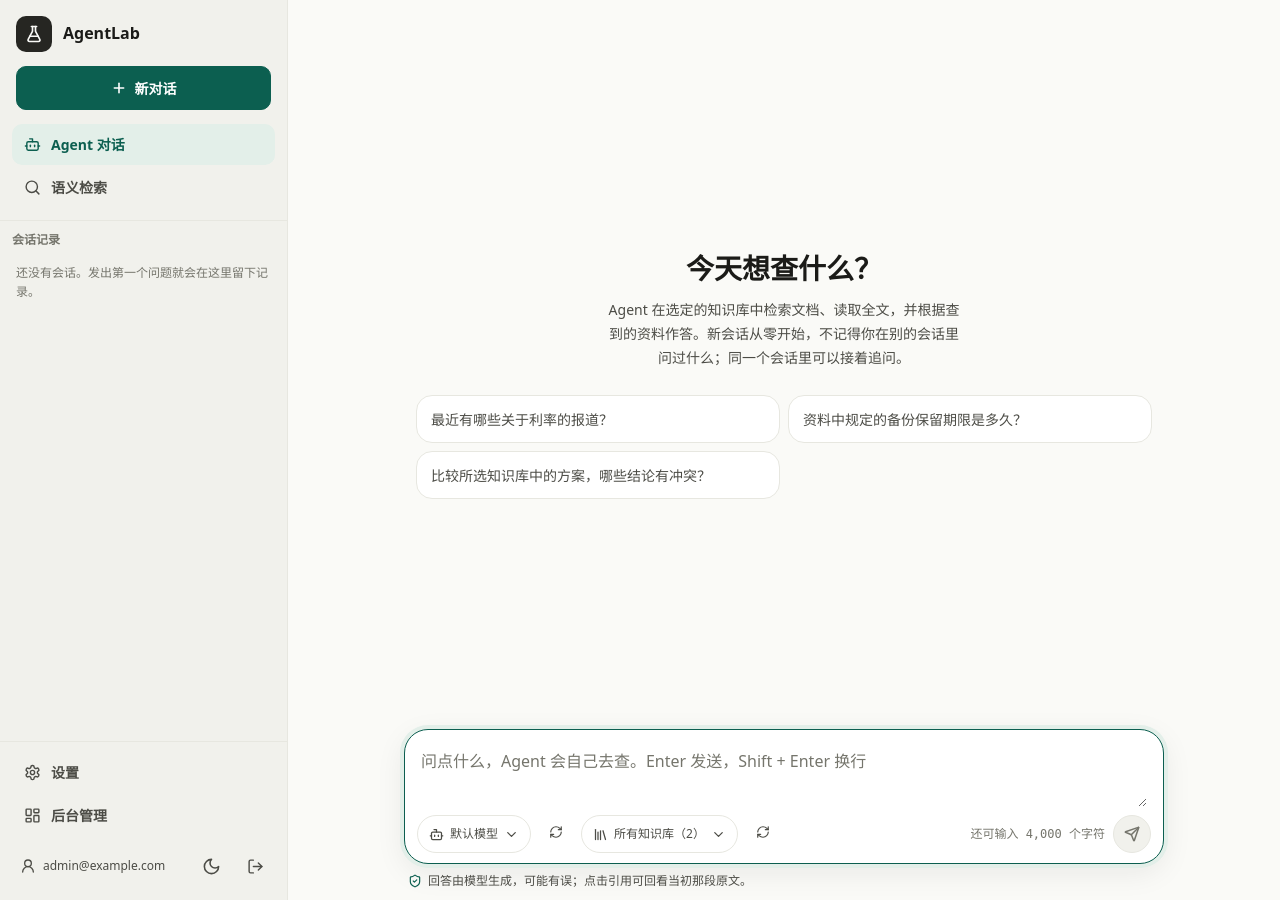
AgentChatPage › 错误事件给出重发按钮，点了再问一次
The width and height of the screenshot is (1280, 900).
Type "会超时的问题" into the text box with class "message-input" at (784, 774), box [421,742,1147,807]
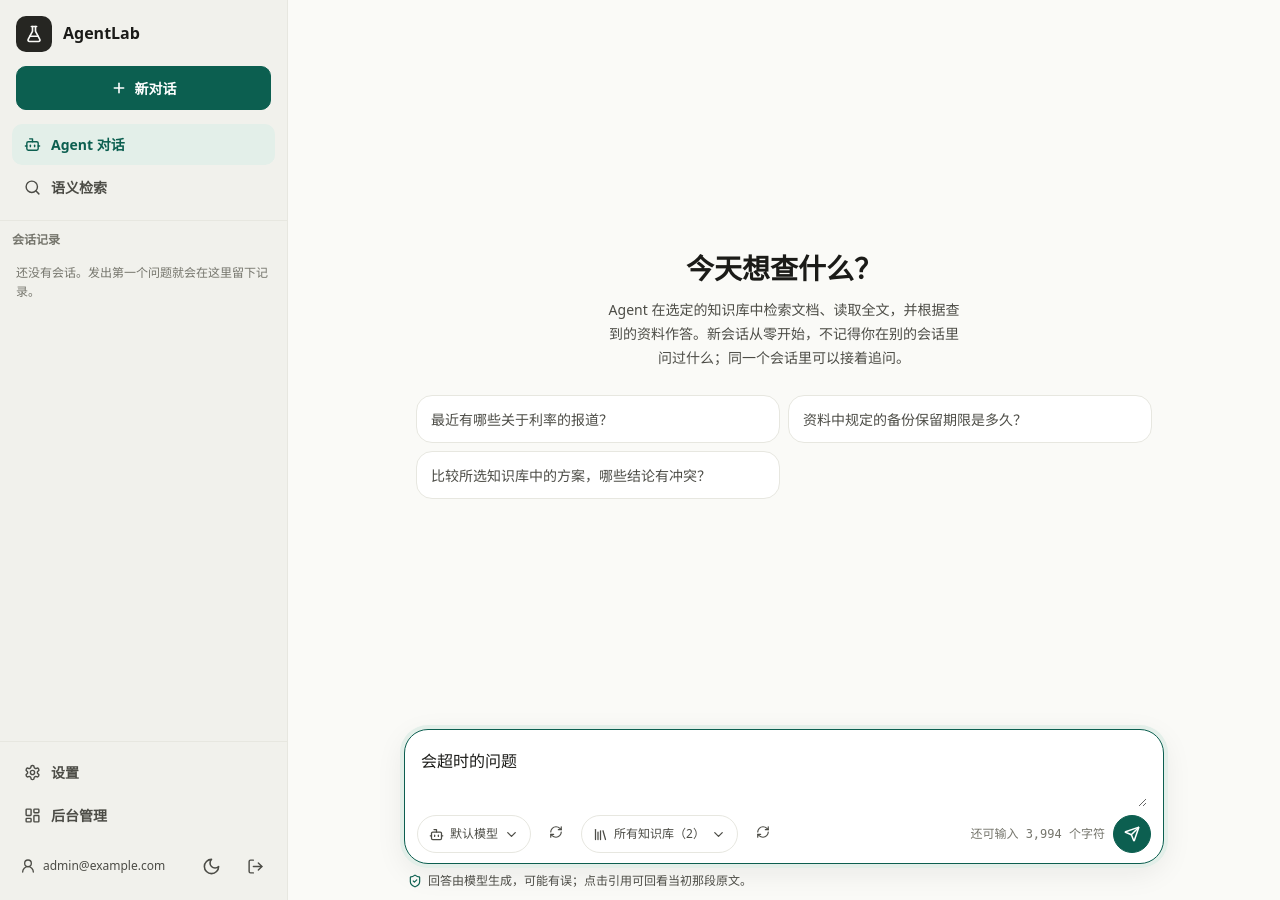
Submit the form with class "agent-form", box [404,729,1164,864]
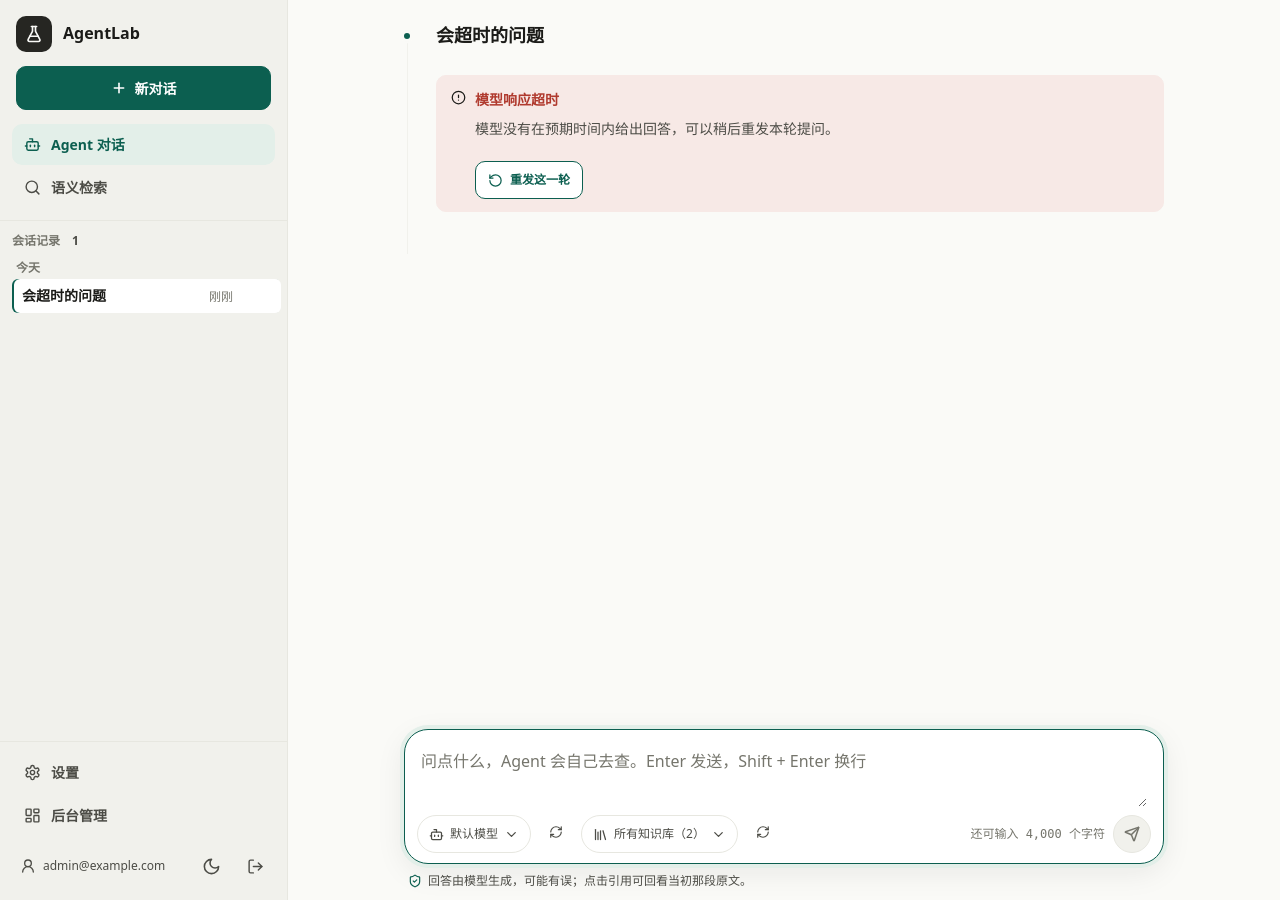
Check: the message with class "turn-error" shows "模型响应超时", box [475,90,559,109]
Click the button with class "retry-button" at (529, 180), box [475,161,583,199]
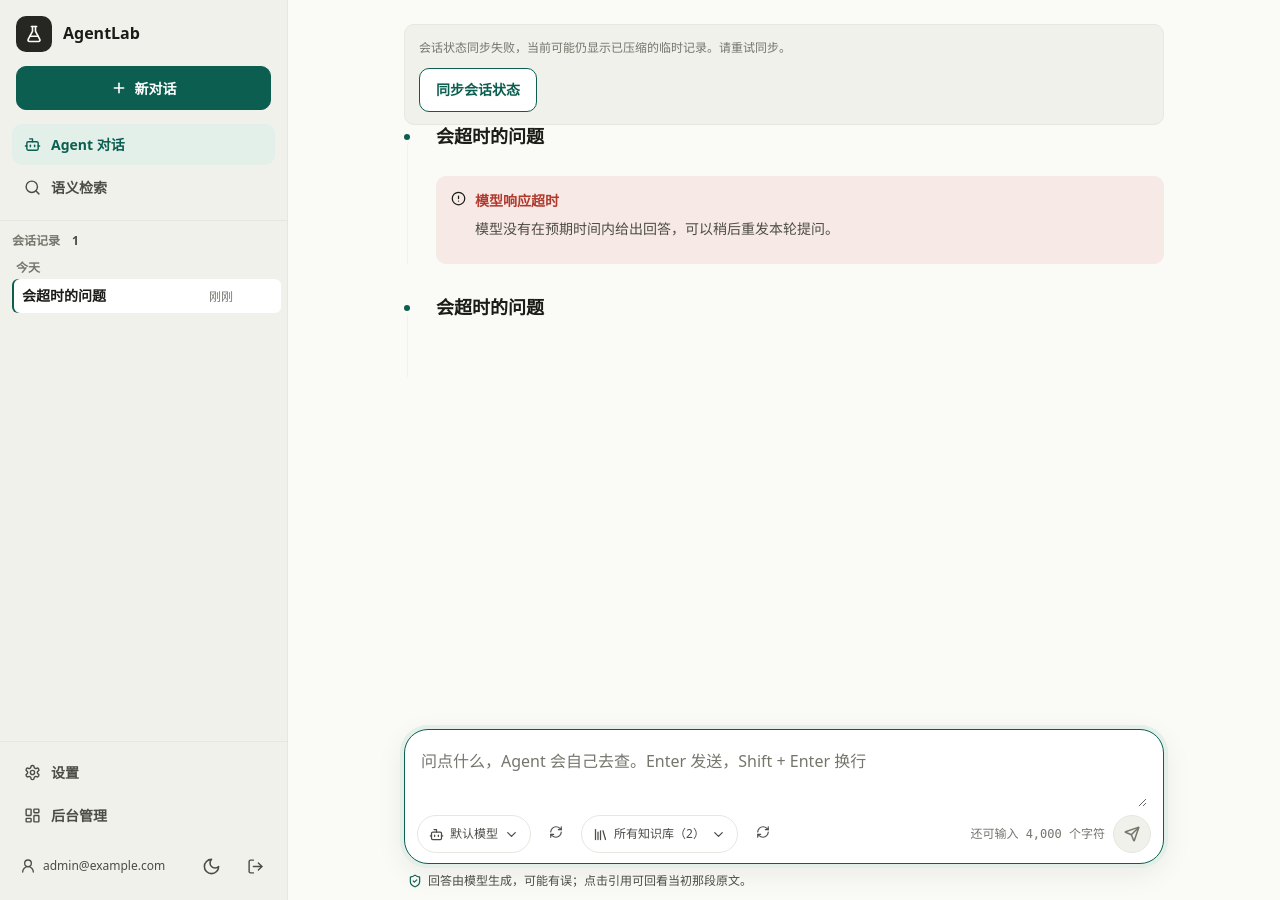
Check: the number of elements with class "turn" is 2, box [404,125,1164,264]; [404,295,544,319]
